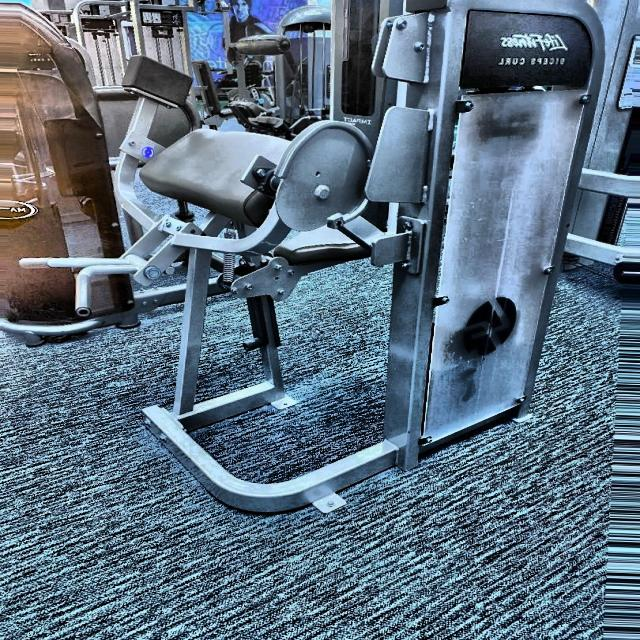bicep_curl_machine: (1, 0, 388, 534), (488, 54, 572, 72)
